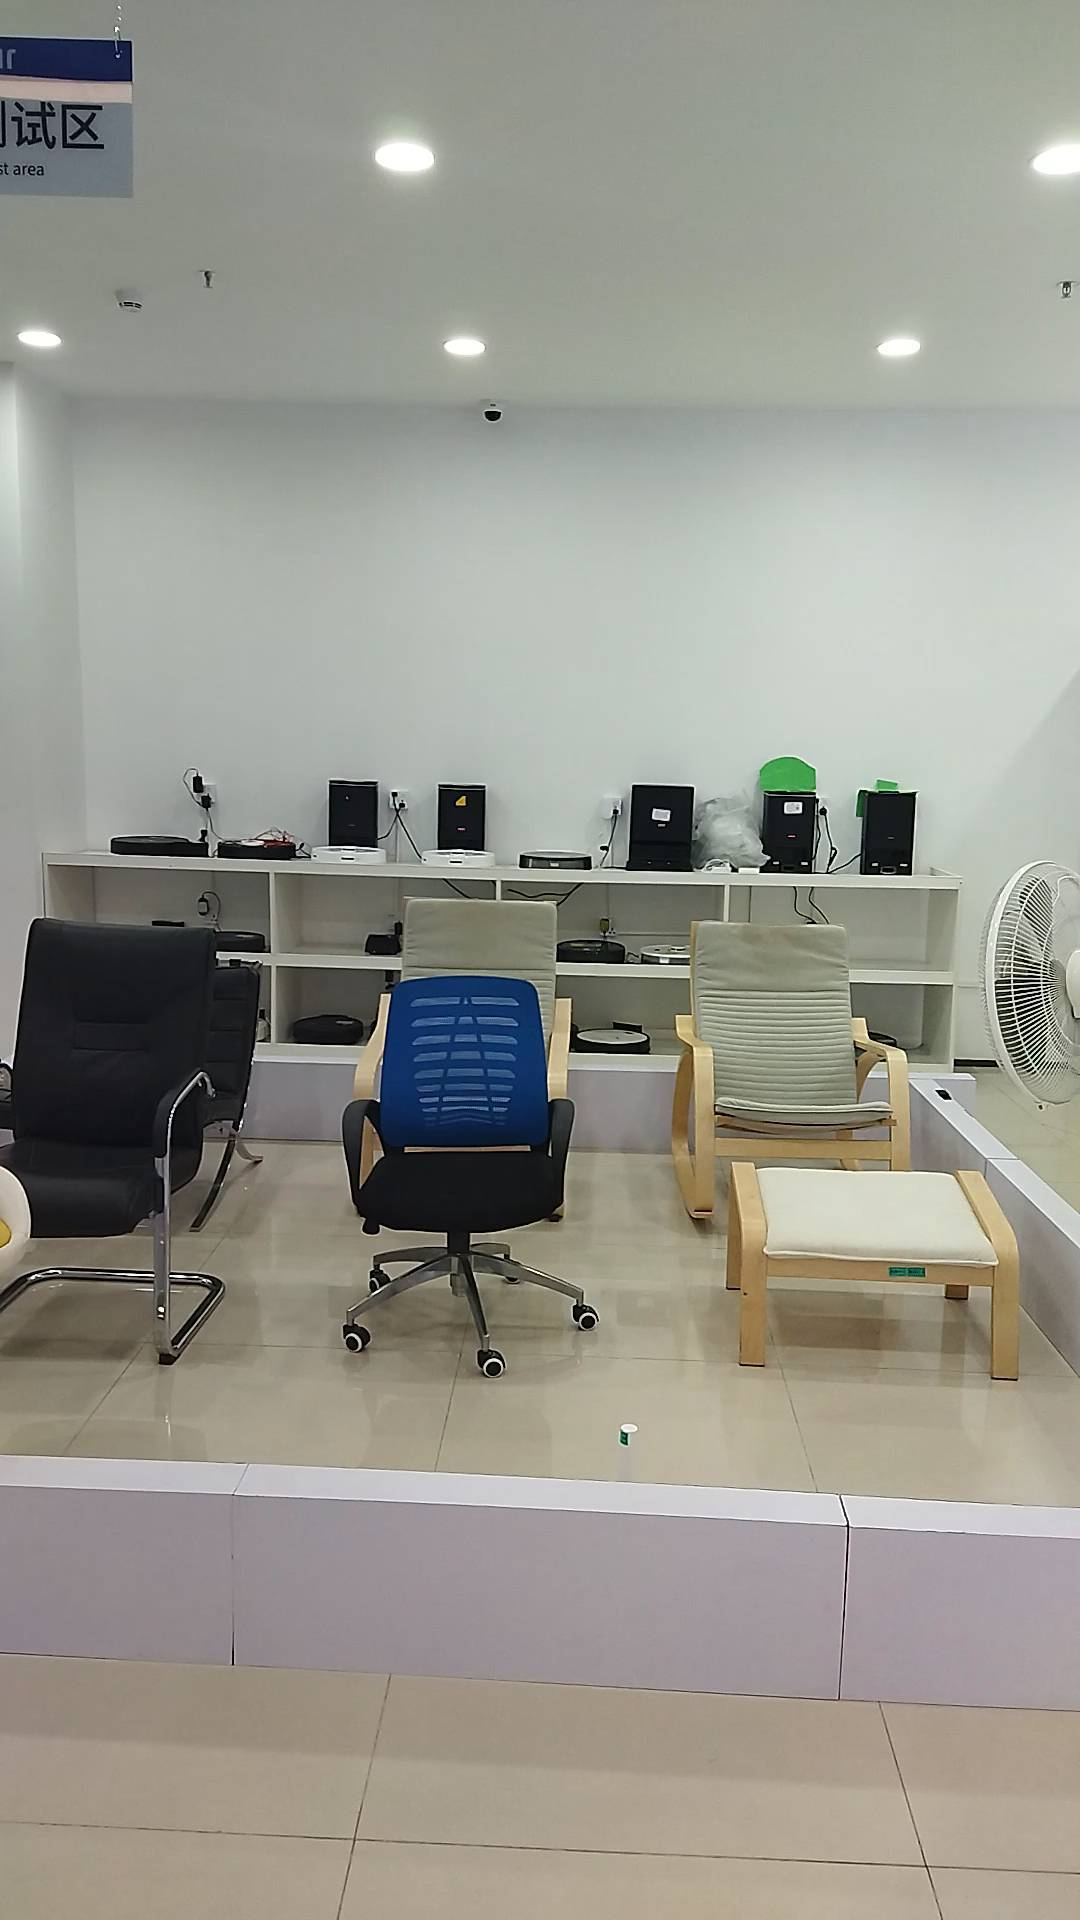dust collecting barrel: (624, 781, 696, 876), (858, 790, 920, 877), (757, 790, 822, 873), (324, 779, 377, 845), (434, 781, 489, 843)
recharge seat: (363, 932, 401, 957)
